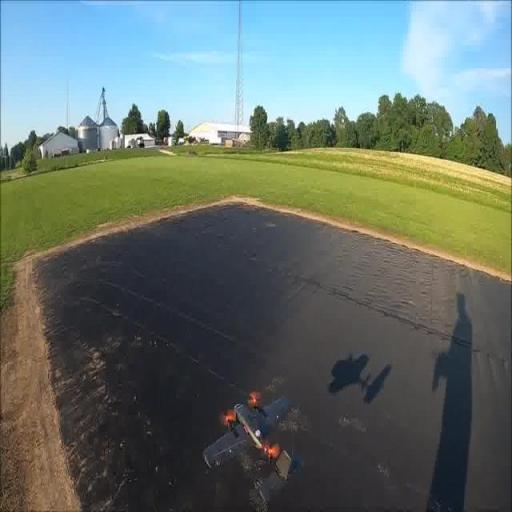uav: (198, 382, 296, 482)
